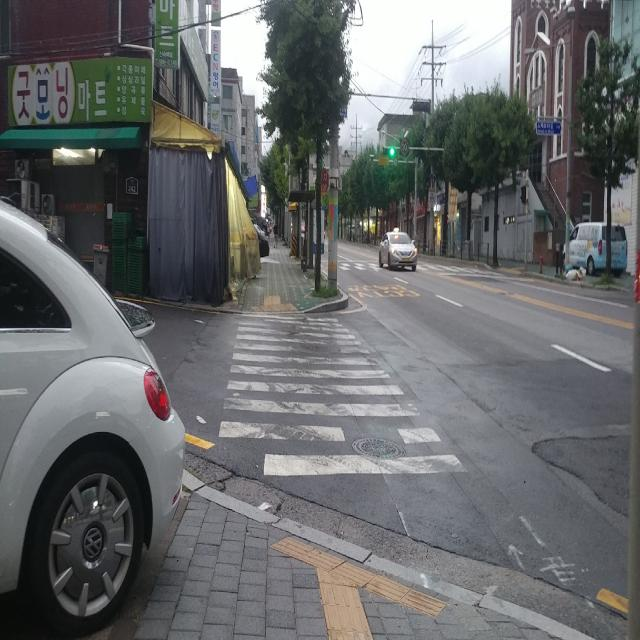횡단보도: (217, 310, 469, 479), (425, 263, 471, 270), (347, 265, 375, 271)
